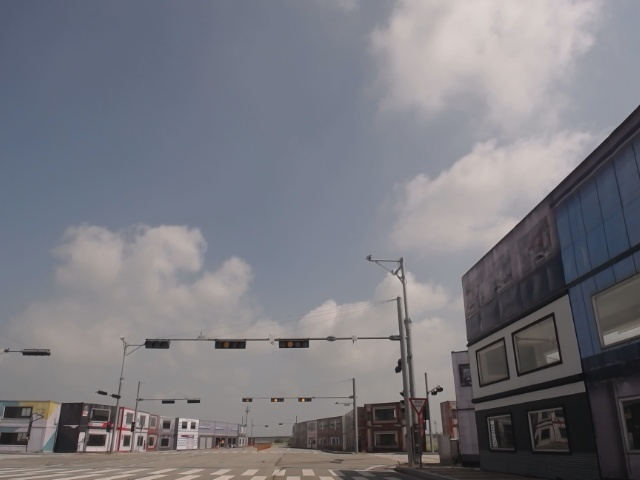orange_4: (278, 339, 310, 349), (214, 340, 246, 349)
